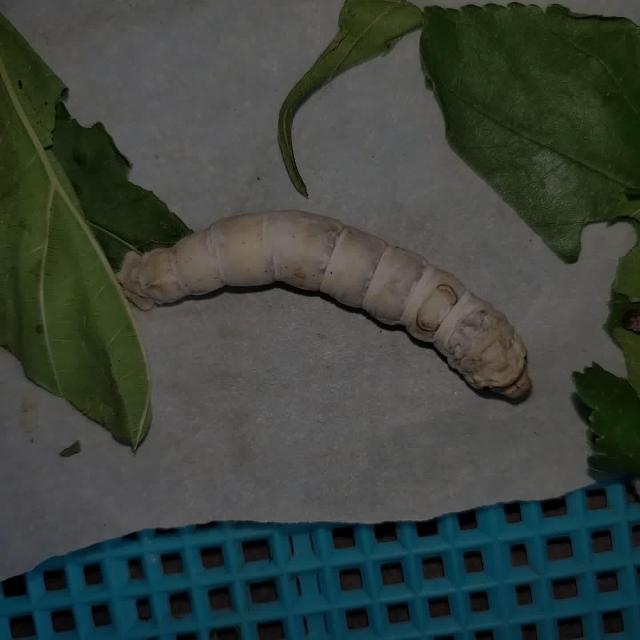Grasserie: (88, 172, 554, 436)
